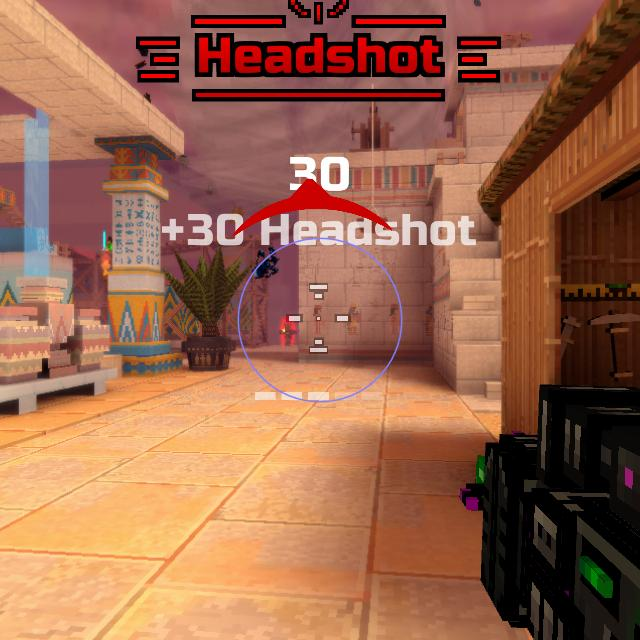Enemy: (280, 323, 295, 345)
